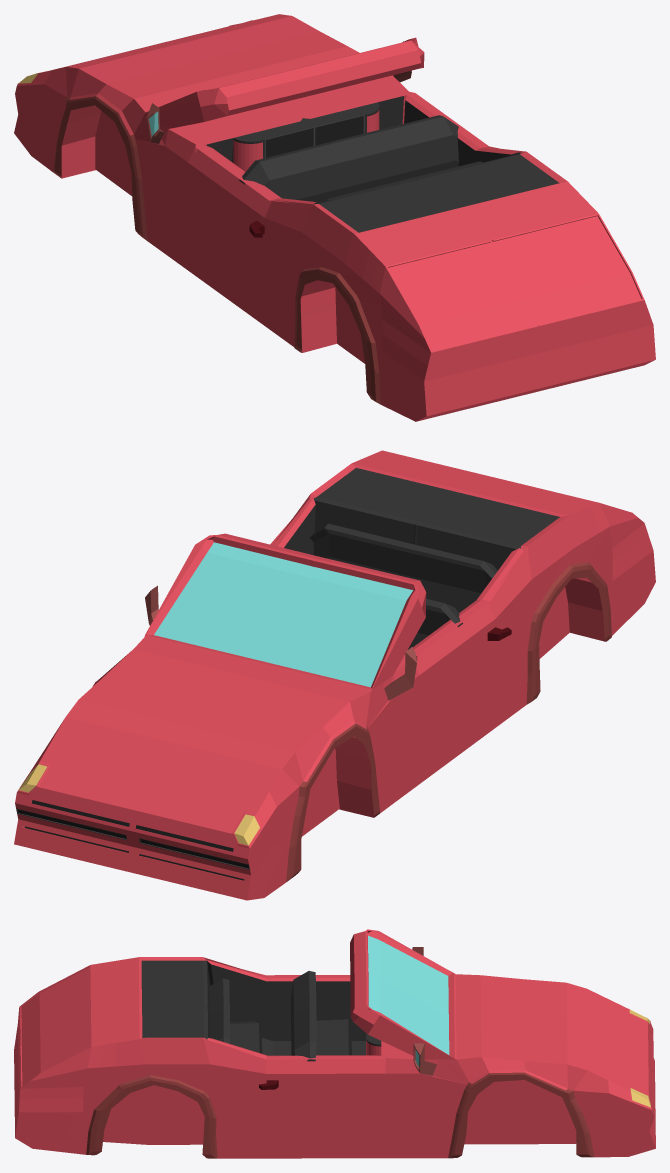
File: car1.fbx
3 renders of one model, top to bottom at view 1: azimuth 30°, elevation 25°; view 2: azimuth 150°, elevation 25°; view 3: azimuth 270°, elevation 25°, orthographic. The views are drawn at different scales.
Parts seen in each view (by area): view 1: Car; view 2: Car; view 3: Car.
Boxes of the visible parts, x1,y1,x2,y2 form: Car: (14,14,655,421); Car: (14,450,655,900); Car: (14,929,655,1158).
Bounding box in the file's own units: 164 × 432 × 109.
